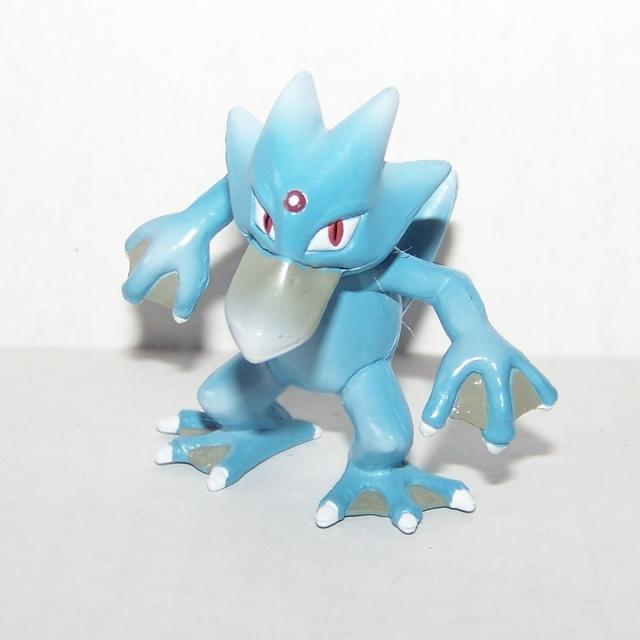Golduck: (110, 49, 570, 548)
